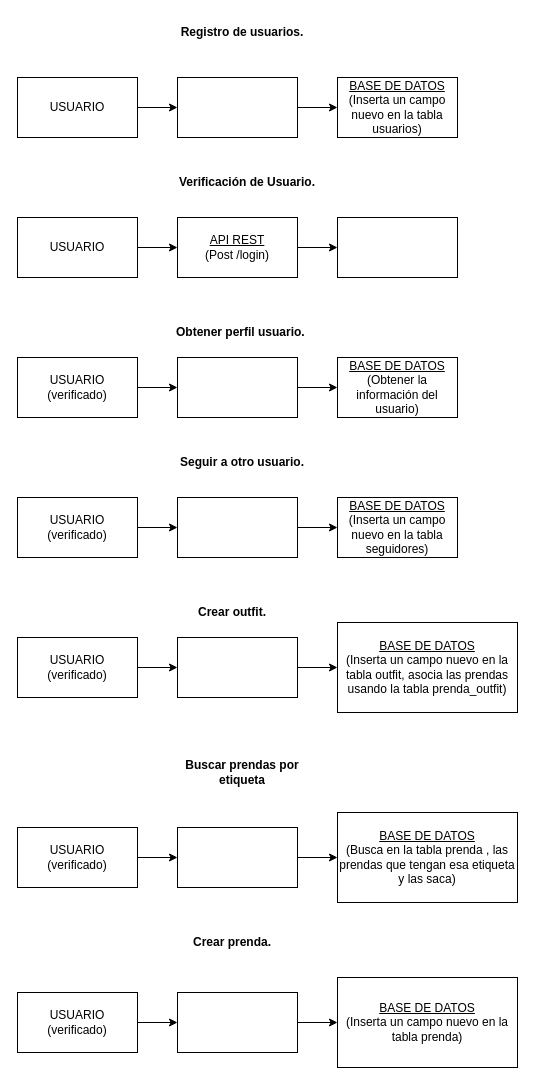
Image size: 535x1085. Some labels were removed from this diagram. The shapes that lost their labels are listed below. From the top down, each one's box as (x1, y1, x2, y2) in pixels, then its label:
(176, 76, 298, 138): API REST (Post /Usuarios)
(336, 216, 458, 278): BASE DE DATOS (Verifica las credenciales)
(176, 356, 298, 418): API REST (Get /usuarios(id))
(176, 496, 298, 558): API REST (Post /seguidores)
(176, 636, 298, 698): API REST (Post /outfits)
(176, 826, 298, 888): API REST (Get /prenda?tags={nombre_etiqueta)
(176, 992, 298, 1052): API REST (Post /prenda)
